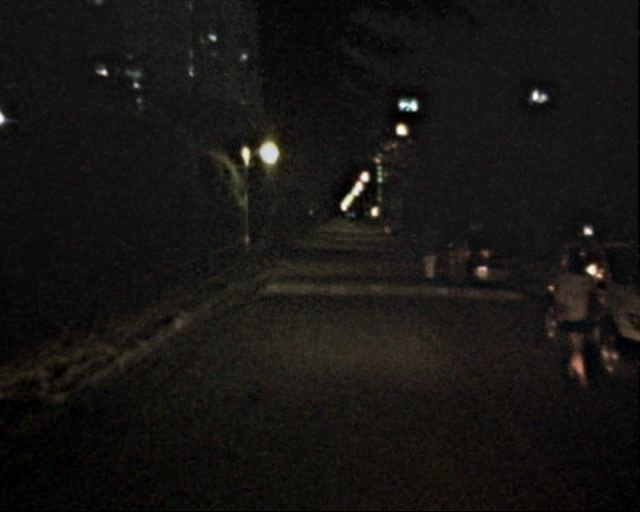person: (539, 248, 594, 382), (416, 222, 441, 284), (404, 227, 423, 274)
